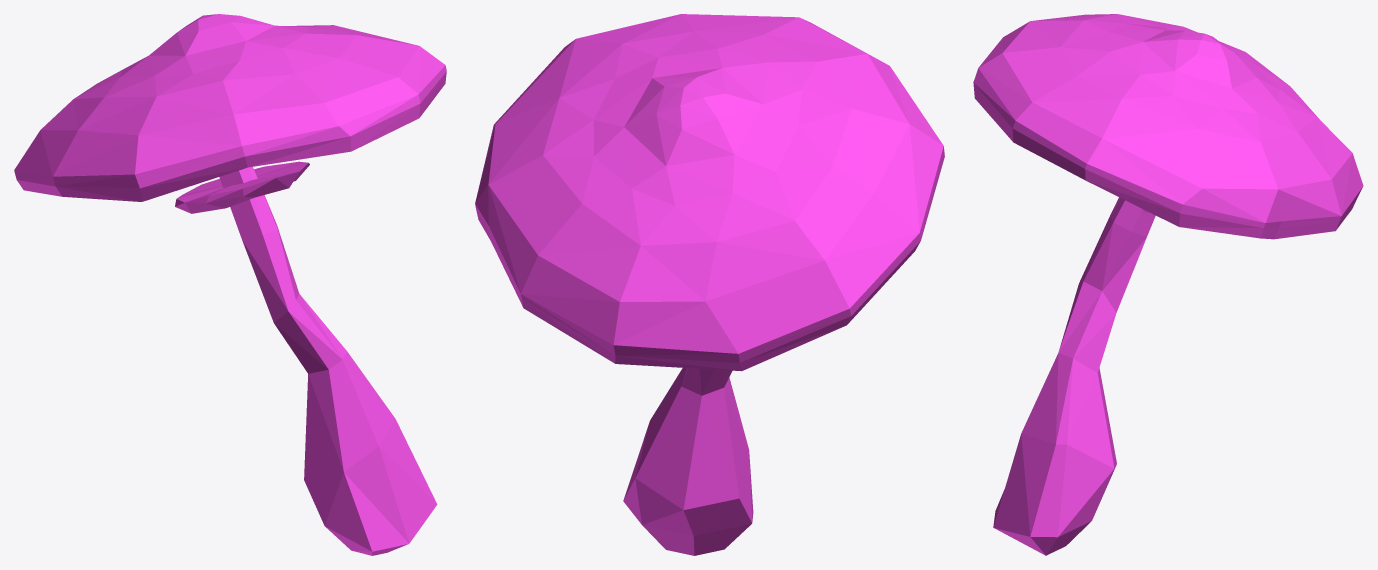
File: SM_Mushroom_Slim_Big_F_Fantasy.fbx
3 renders of one model, left to right at view 1: azimuth 30°, elevation 25°; view 2: azimuth 150°, elevation 25°; view 3: azimuth 270°, elevation 25°, orthographic. The views are drawn at different scales.
Parts seen in each view (by area): view 1: SM_Mushroom_Slim_Big_F_Fantasy; view 2: SM_Mushroom_Slim_Big_F_Fantasy; view 3: SM_Mushroom_Slim_Big_F_Fantasy.
Boxes of the visible parts, x1=… form: SM_Mushroom_Slim_Big_F_Fantasy: x1=14, y1=14, x2=446, y2=555; SM_Mushroom_Slim_Big_F_Fantasy: x1=475, y1=14, x2=944, y2=555; SM_Mushroom_Slim_Big_F_Fantasy: x1=973, y1=14, x2=1363, y2=555.
Bounding box in the file's own units: 2.55 × 3.22 × 2.44.
